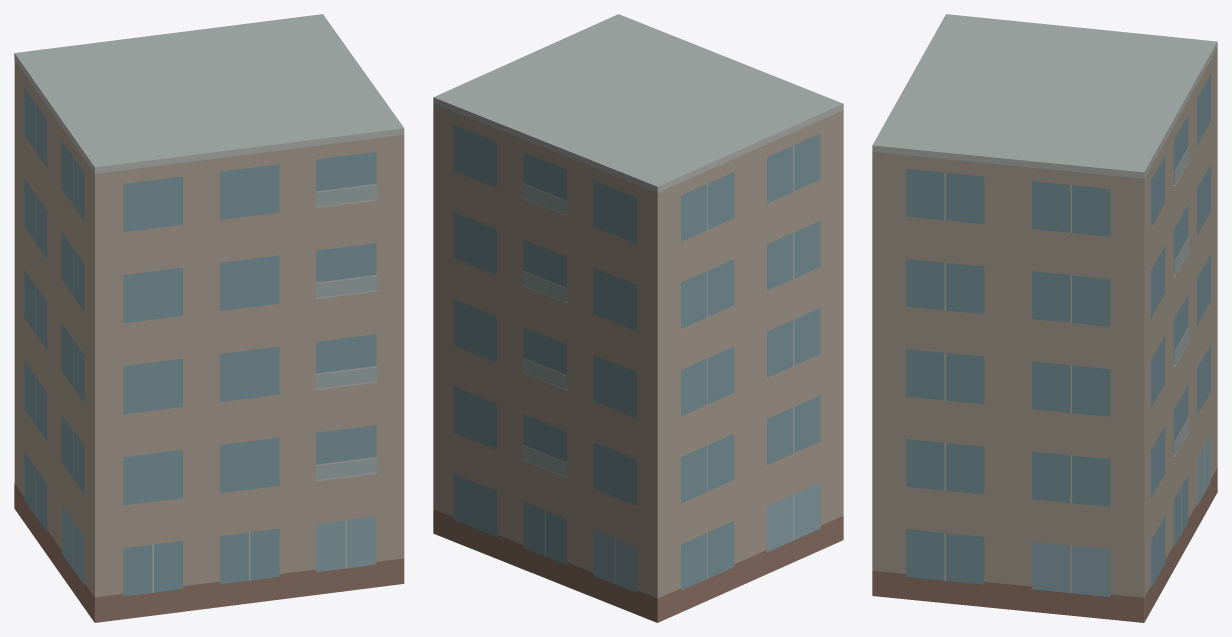
File: survey-upis-32522354.glb
3 views of the same model, side by side, from view 1: azimuth 30°, elevation 25°; view 2: azimuth 150°, elevation 25°; view 3: azimuth 270°, elevation 25° (orthographic). The views are drawn at different scales.
Visible parts, largest first — view 1: survey-upis-32522354.tmp; view 2: survey-upis-32522354.tmp; view 3: survey-upis-32522354.tmp.
Boxes of the visible parts, bbox=[...] form: survey-upis-32522354.tmp: bbox=[14, 14, 404, 622]; survey-upis-32522354.tmp: bbox=[433, 14, 843, 622]; survey-upis-32522354.tmp: bbox=[872, 14, 1217, 622].
Bounding box in the file's own units: 12.88 × 17.06 × 11.86.
